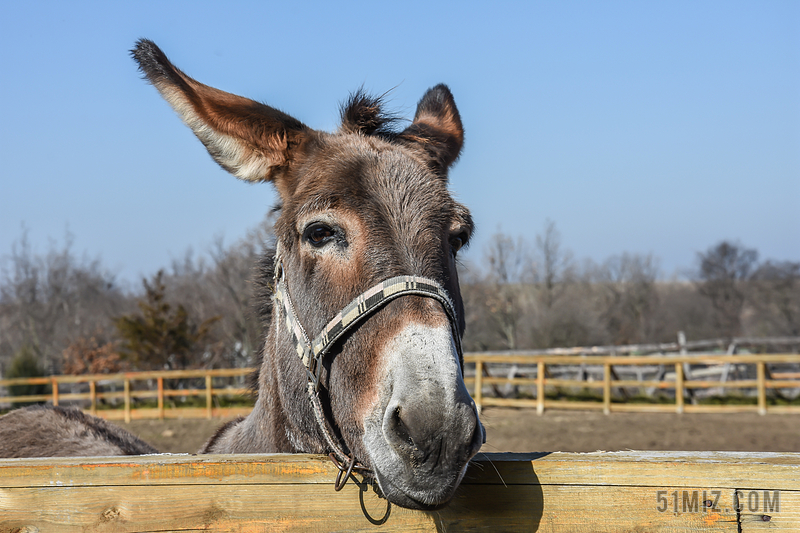background: (1, 43, 485, 533)
